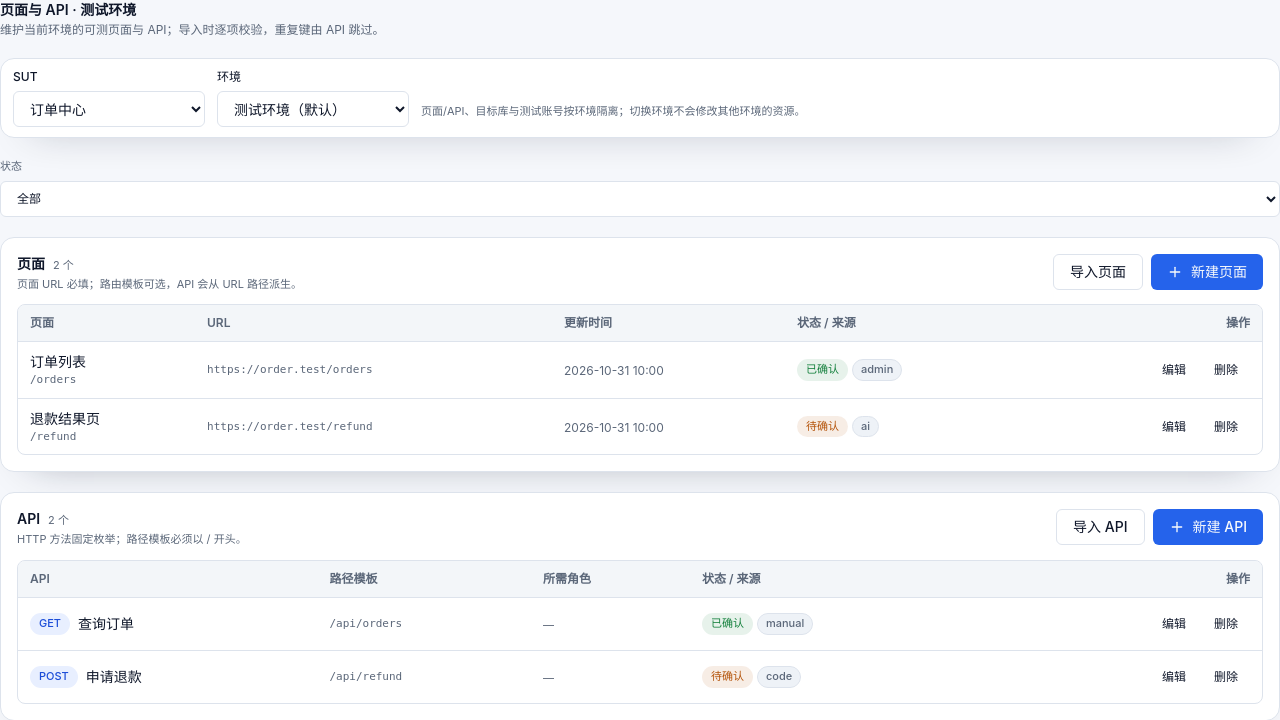
Test case: PageAPIPanel proposals › filters the two tables by status
Select "待确认" in the dropdown named "状态": (640, 198) [0,180,1279,216]
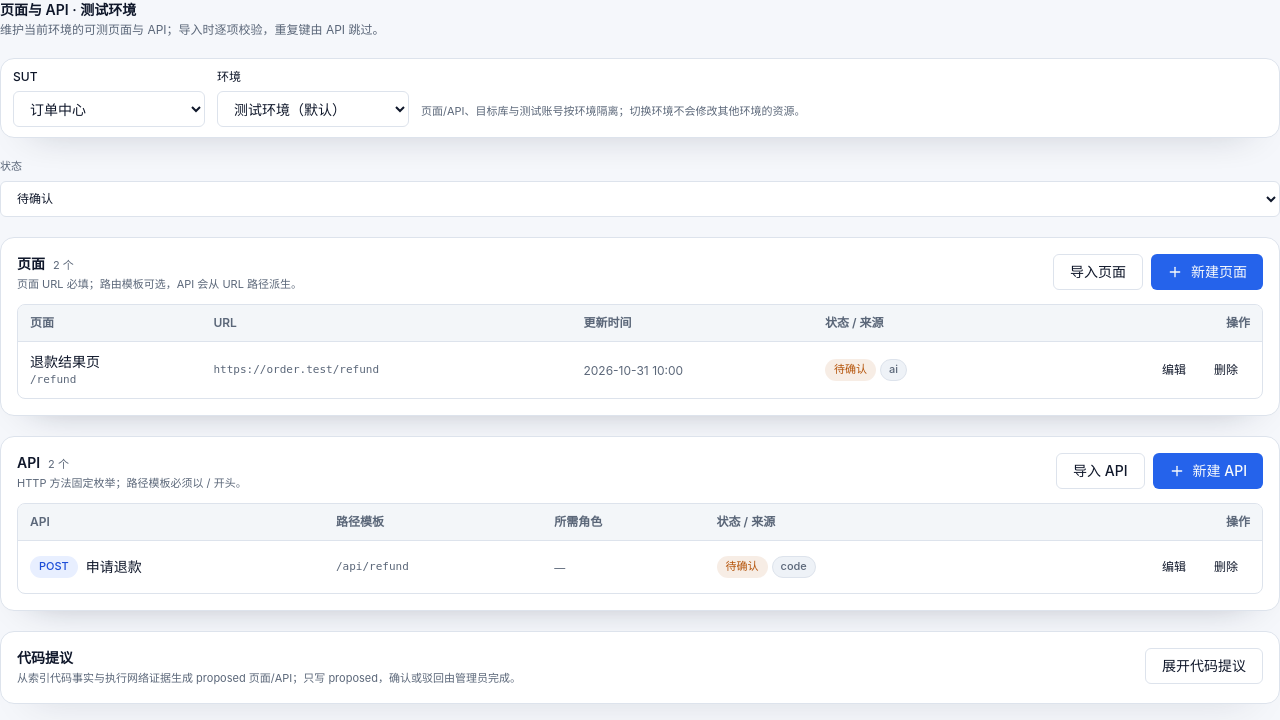
Expected: the text "退款结果页" is shown, [30,353,100,370]
Now the text "订单列表" is gone
Now the text "查询订单" is gone
Select "全部" in the dropdown named "状态": (640, 198) [0,180,1279,216]
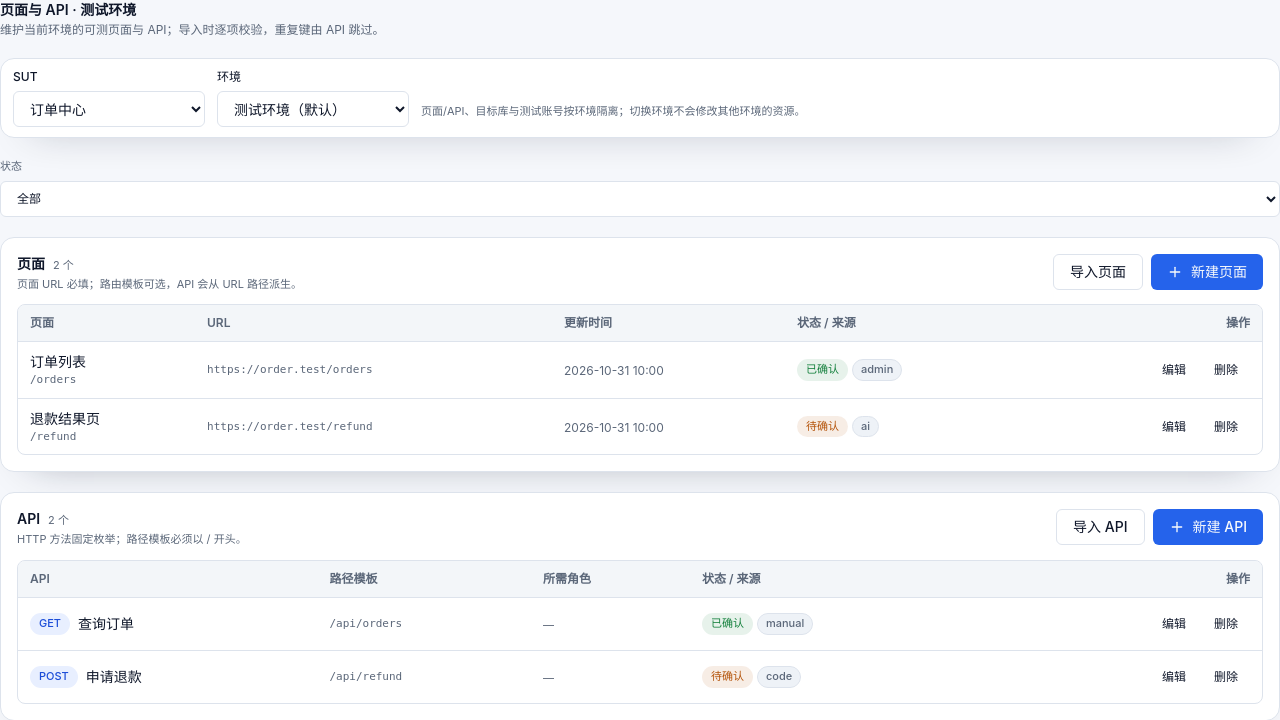
Now the text "订单列表" is shown, box [30,353,86,370]
